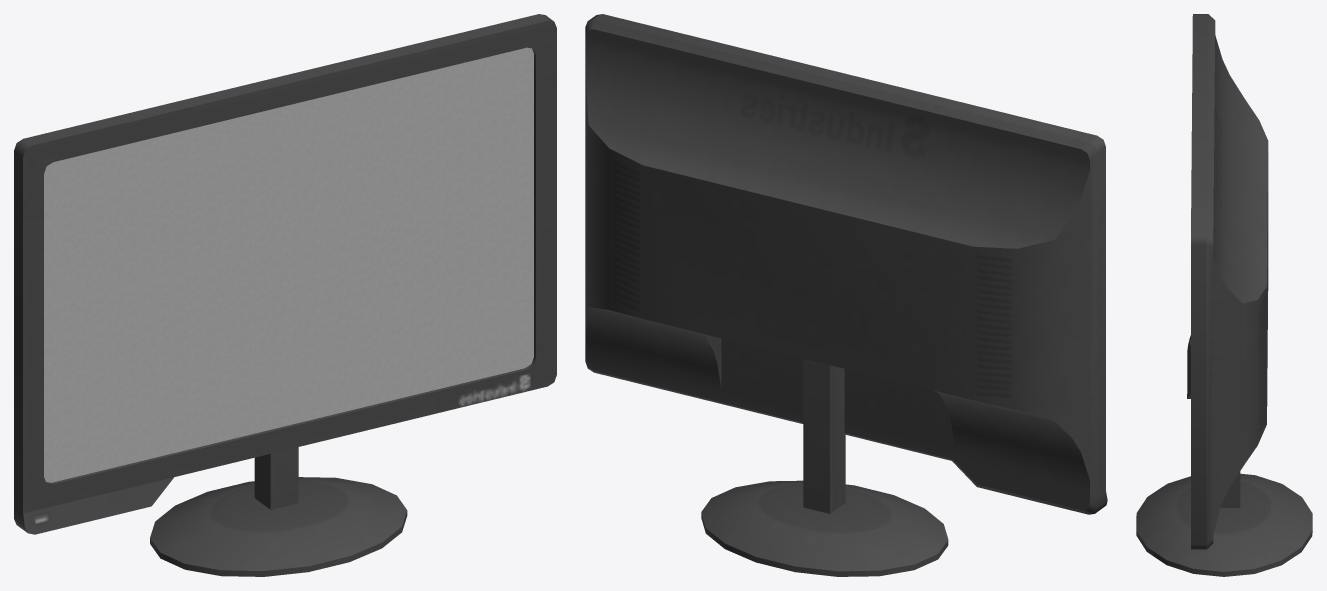
Rendered from propMonitor.fbx.
3 views of the same model, side by side, from view 1: azimuth 30°, elevation 25°; view 2: azimuth 150°, elevation 25°; view 3: azimuth 270°, elevation 25° (orthographic). The views are drawn at different scales.
Parts seen in each view (by area): view 1: propMonitor; view 2: propMonitor; view 3: propMonitor.
Part boxes in pixels (x1=…): propMonitor: x1=14, y1=14, x2=556, y2=576; propMonitor: x1=585, y1=14, x2=1107, y2=576; propMonitor: x1=1136, y1=14, x2=1312, y2=576.
Bounding box in the file's own units: 65.2 × 54.06 × 21.55.
2 materials, 2 textured.
